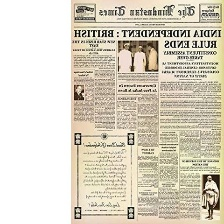news_paper: (67, 0, 224, 224)
